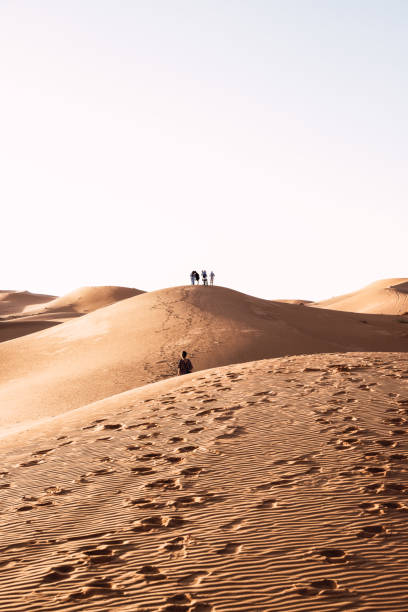human_foot_print: (72, 396, 404, 609), (57, 577, 123, 601), (294, 577, 358, 600), (16, 485, 71, 511), (158, 593, 213, 611), (131, 514, 186, 532), (81, 544, 119, 567), (359, 500, 407, 515), (159, 535, 190, 557), (41, 564, 74, 583), (159, 593, 192, 611), (315, 547, 351, 563), (363, 481, 407, 494), (253, 478, 292, 491), (123, 497, 165, 509), (168, 495, 205, 508), (177, 570, 209, 585), (138, 565, 166, 581), (356, 524, 389, 537), (144, 478, 181, 489), (198, 490, 225, 505), (216, 426, 245, 439), (216, 542, 242, 554), (221, 518, 245, 530), (44, 485, 71, 495), (255, 497, 277, 509), (81, 419, 104, 430), (131, 465, 156, 475), (180, 466, 203, 476), (87, 467, 115, 475), (16, 459, 43, 467), (137, 452, 162, 460), (32, 447, 54, 456), (376, 438, 397, 447), (97, 423, 123, 430), (164, 455, 184, 463), (177, 444, 197, 452), (195, 408, 213, 416), (16, 504, 33, 511), (168, 436, 185, 443), (188, 426, 203, 433), (58, 440, 75, 446), (126, 444, 140, 451), (95, 436, 111, 441), (183, 419, 196, 425), (201, 398, 216, 403)
